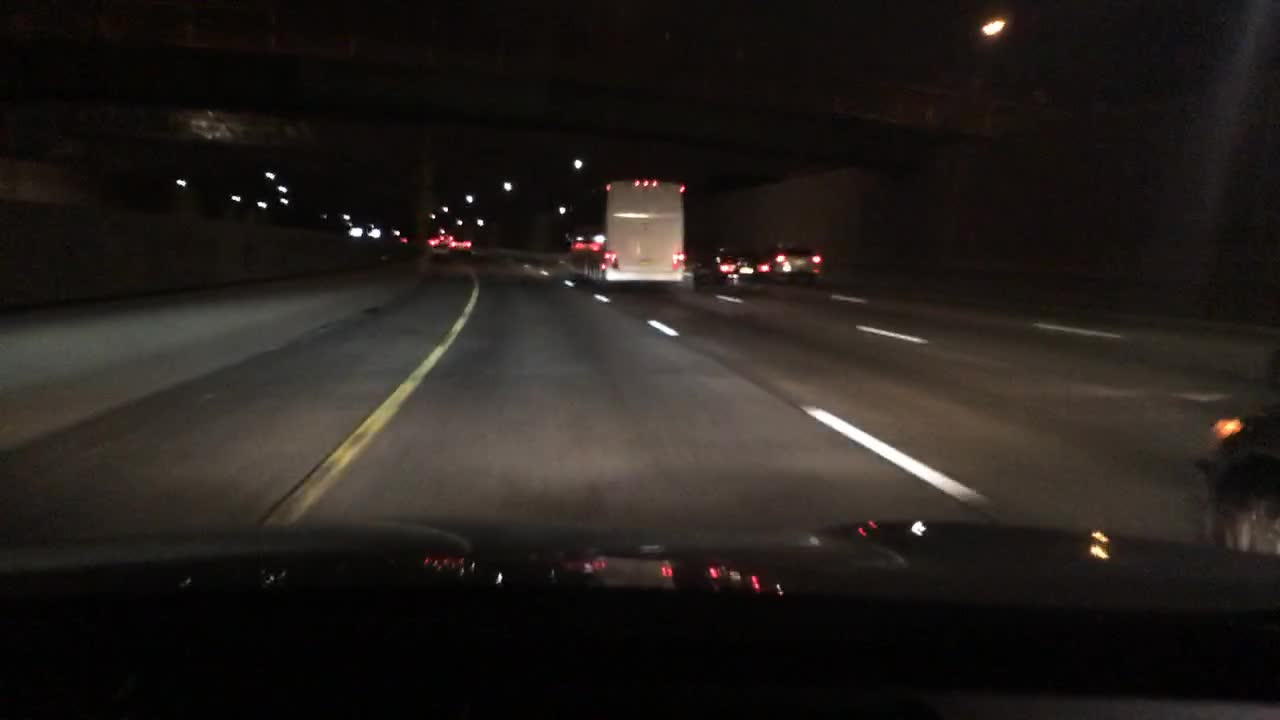bus: (565, 177, 686, 289)
car: (1191, 407, 1278, 560), (755, 246, 826, 279), (694, 252, 755, 285), (347, 221, 382, 238), (427, 232, 454, 248), (447, 241, 473, 254)
